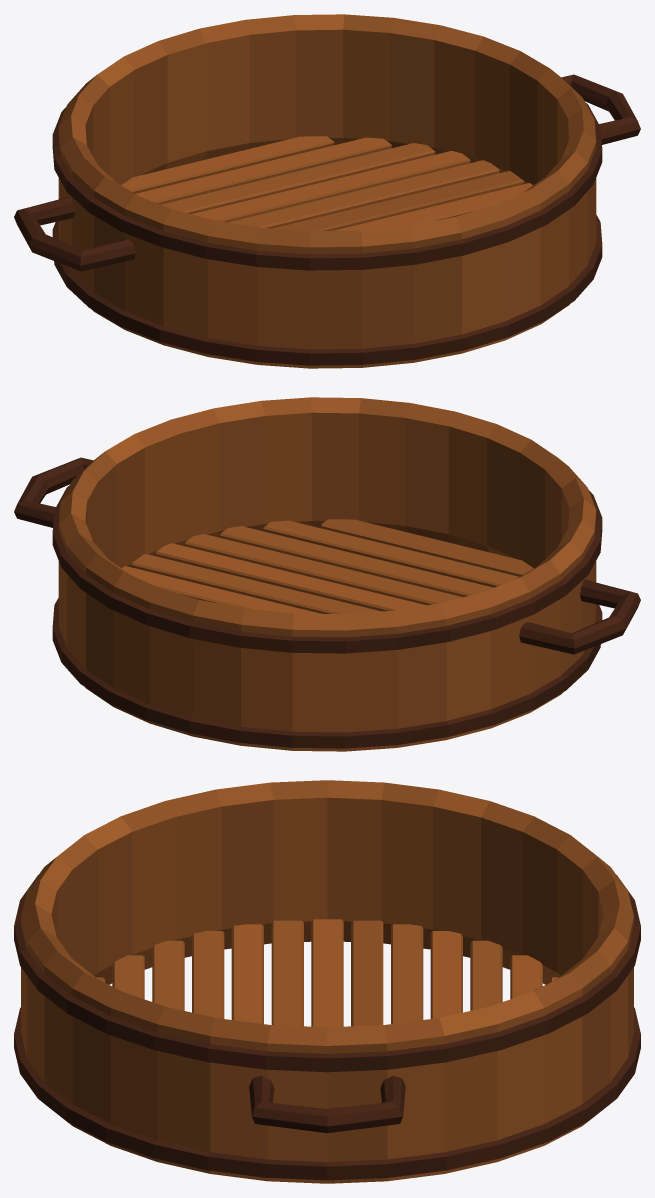
The model's file is ED_14_Slatted_Bamboo_Steamer.fbx.
3 views of the same model, one above another, from view 1: azimuth 30°, elevation 25°; view 2: azimuth 150°, elevation 25°; view 3: azimuth 270°, elevation 25° (orthographic). The views are drawn at different scales.
Visible parts, largest first — view 1: ED_14_Slatted_Bamboo_Steamer; view 2: ED_14_Slatted_Bamboo_Steamer; view 3: ED_14_Slatted_Bamboo_Steamer.
Boxes of the visible parts, <box> form: ED_14_Slatted_Bamboo_Steamer: <box>14,14,640,368</box>; ED_14_Slatted_Bamboo_Steamer: <box>14,397,640,751</box>; ED_14_Slatted_Bamboo_Steamer: <box>14,780,640,1183</box>.
Size of the model in its own units: 3.35 by 0.745 by 2.68.
